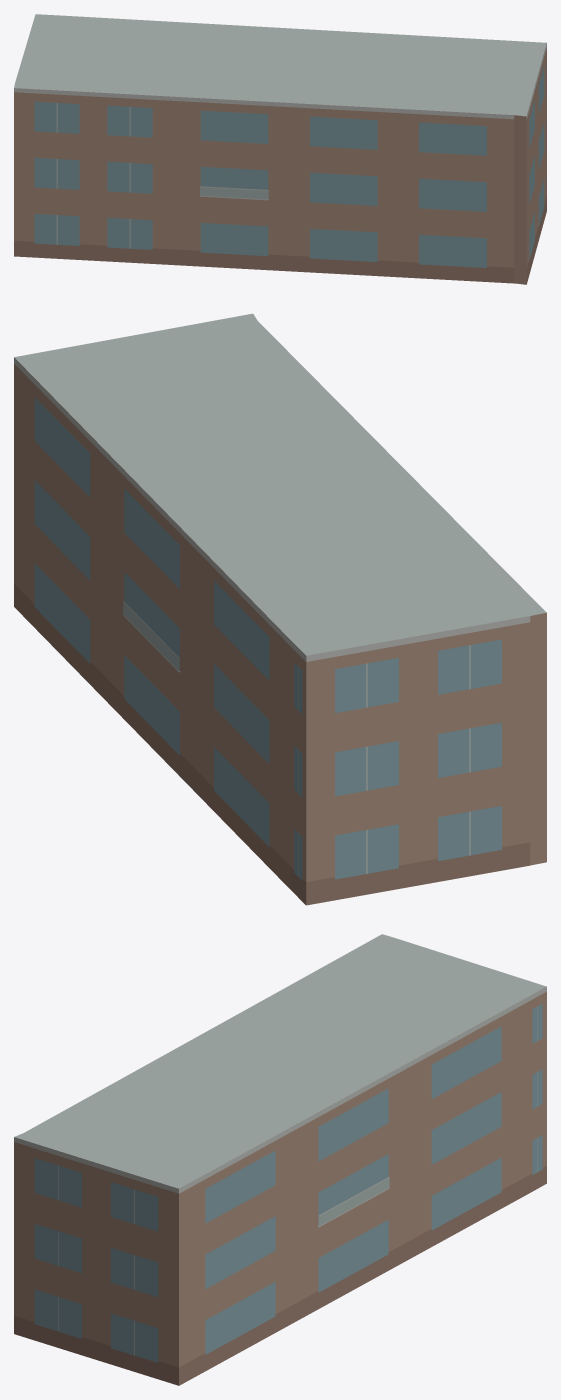
The model's file is survey-upis-32528538.glb.
3 views of the same model, one above another, from view 1: azimuth 30°, elevation 25°; view 2: azimuth 150°, elevation 25°; view 3: azimuth 270°, elevation 25° (orthographic). The views are drawn at different scales.
Parts seen in each view (by area): view 1: survey-upis-32528538.tmp; view 2: survey-upis-32528538.tmp; view 3: survey-upis-32528538.tmp.
Part boxes in pixels (x1=…): survey-upis-32528538.tmp: x1=14, y1=14, x2=546, y2=284; survey-upis-32528538.tmp: x1=14, y1=313, x2=546, y2=905; survey-upis-32528538.tmp: x1=14, y1=934, x2=546, y2=1385.
Size of the model in its own units: 27.19 by 9.8 by 24.03.
